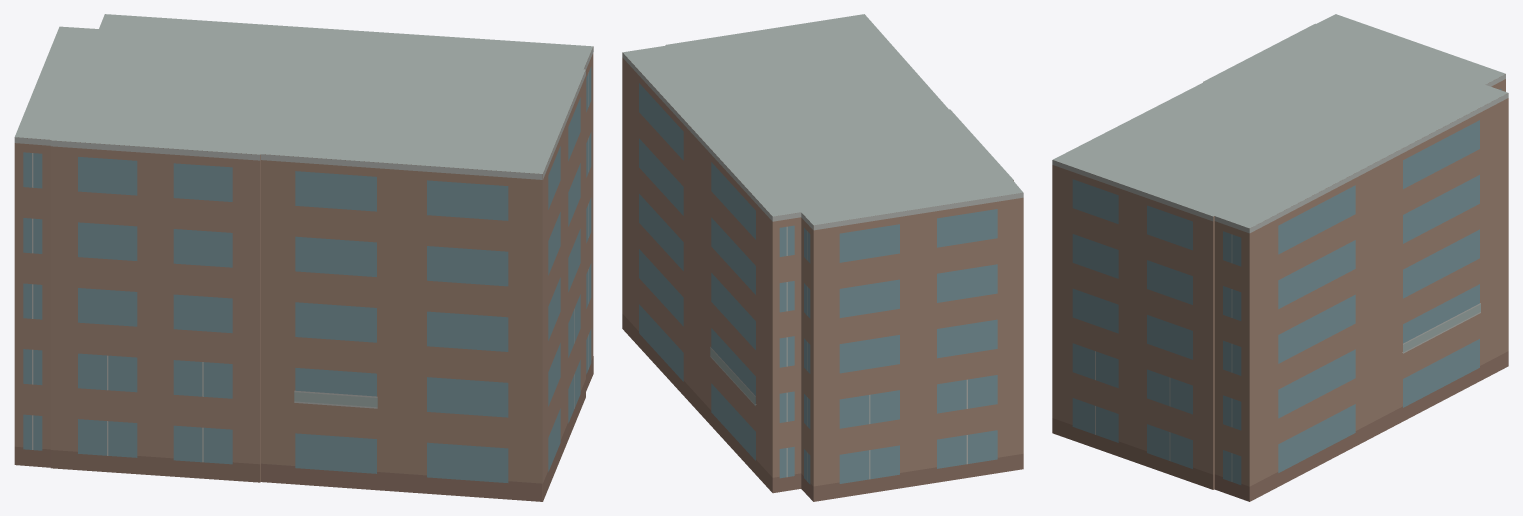
File: survey-upis-32656874.glb
3 renders of one model, left to right at view 1: azimuth 30°, elevation 25°; view 2: azimuth 150°, elevation 25°; view 3: azimuth 270°, elevation 25°, orthographic. The views are drawn at different scales.
Visible parts, largest first — view 1: survey-upis-32656874.tmp; view 2: survey-upis-32656874.tmp; view 3: survey-upis-32656874.tmp.
Part boxes in pixels (x1,y1,x2,y2): survey-upis-32656874.tmp: (14,14,593,501); survey-upis-32656874.tmp: (622,14,1023,501); survey-upis-32656874.tmp: (1052,14,1508,501).
Size of the model in its own units: 22.64 by 13.45 by 20.34.
